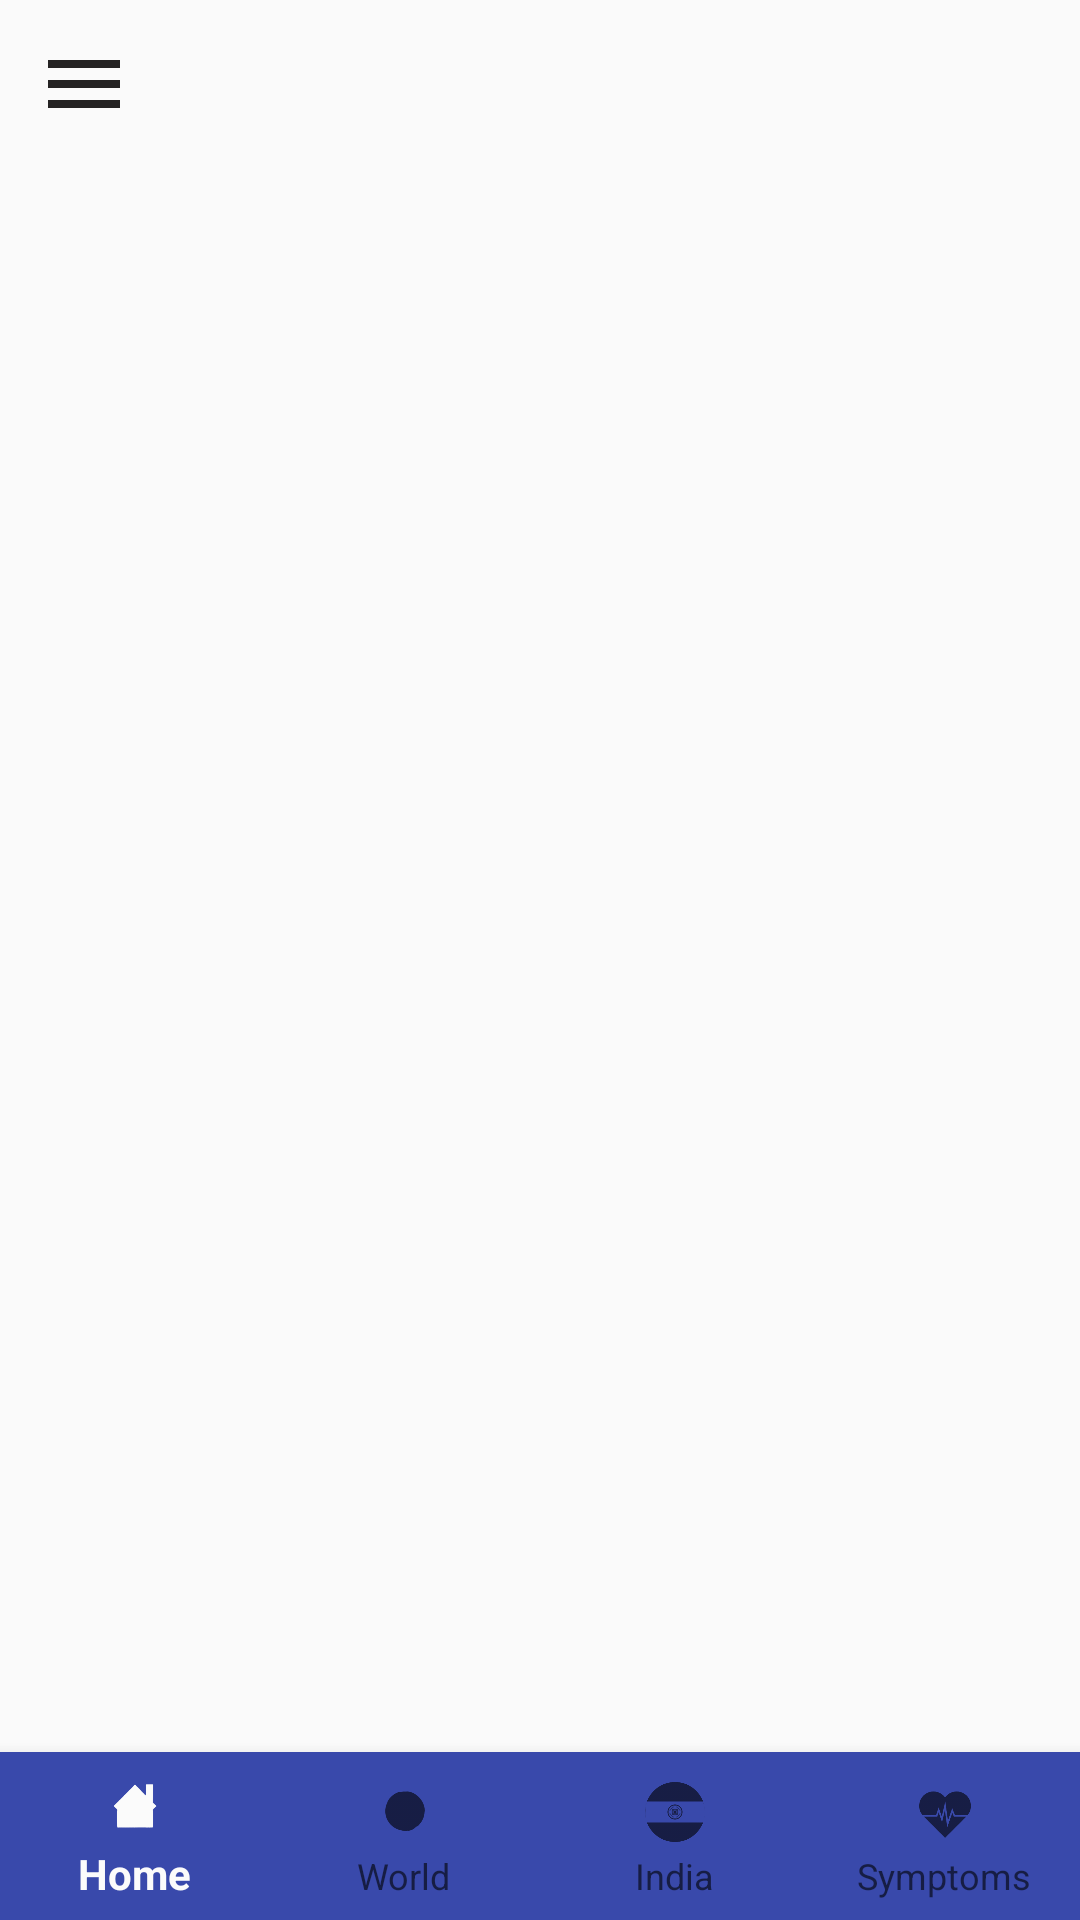

Named icons in this screenshot (1080w x 1920h) and their centers, point (x, y):
menu: point (84, 84)
